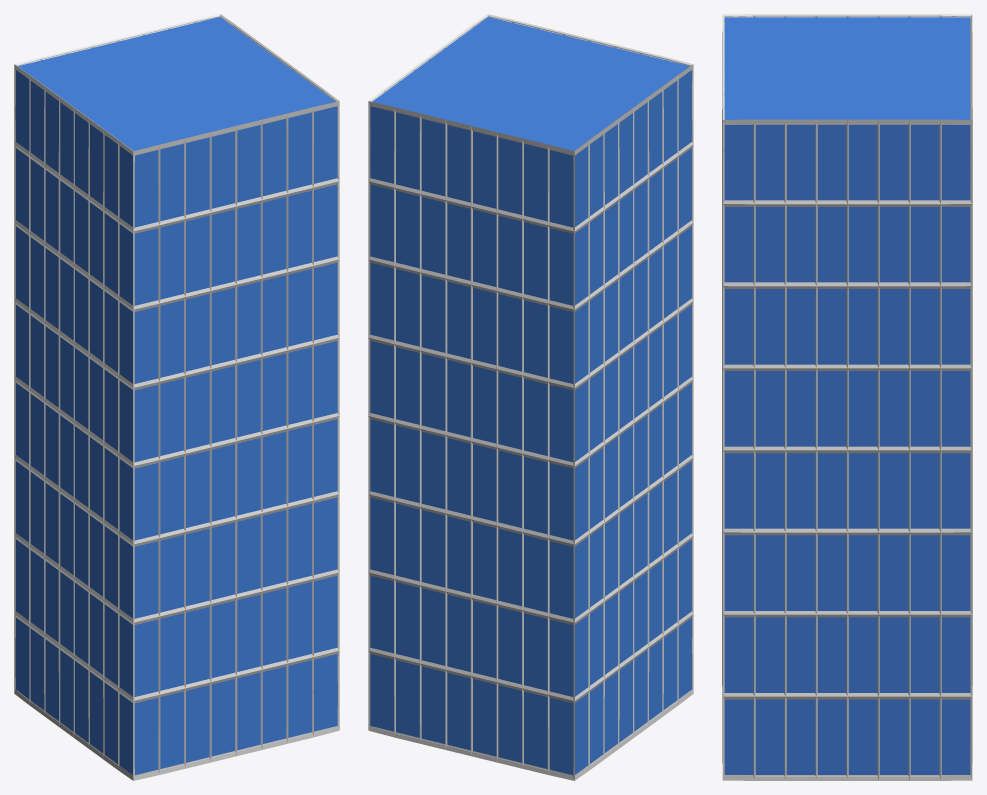
Rendered from building.fbx.
3 views of the same model, side by side, from view 1: azimuth 30°, elevation 25°; view 2: azimuth 150°, elevation 25°; view 3: azimuth 270°, elevation 25° (orthographic). The views are drawn at different scales.
Visible parts, largest first — view 1: Cube, Cube.001; view 2: Cube, Cube.001; view 3: Cube, Cube.001.
Boxes of the visible parts, box(x1,y1,x2,y2) form: Cube: box(16, 17, 337, 775); Cube.001: box(14, 14, 339, 780); Cube: box(370, 17, 691, 775); Cube.001: box(368, 14, 693, 780); Cube: box(724, 17, 970, 774); Cube.001: box(722, 14, 972, 780).
Size of the model in its own units: 202 by 589 by 202.
